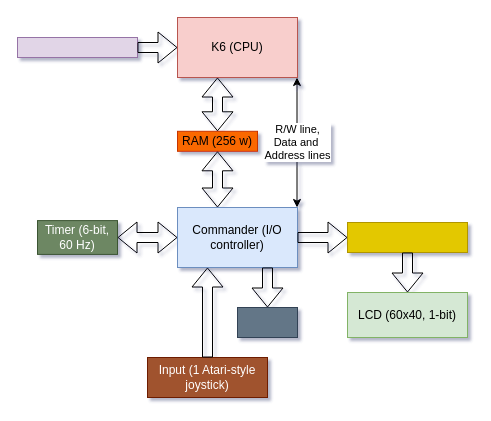
Image size: 491x421. Some labels were removed from this diagram. The shapes that lost their labels are listed below. From the top down, each one's centre as x and y in pixels, then its label:
the point at 77,47: Program ROM (4 kw)
the point at 407,237: Video RAM (400 w)
the point at 267,322: Speaker
